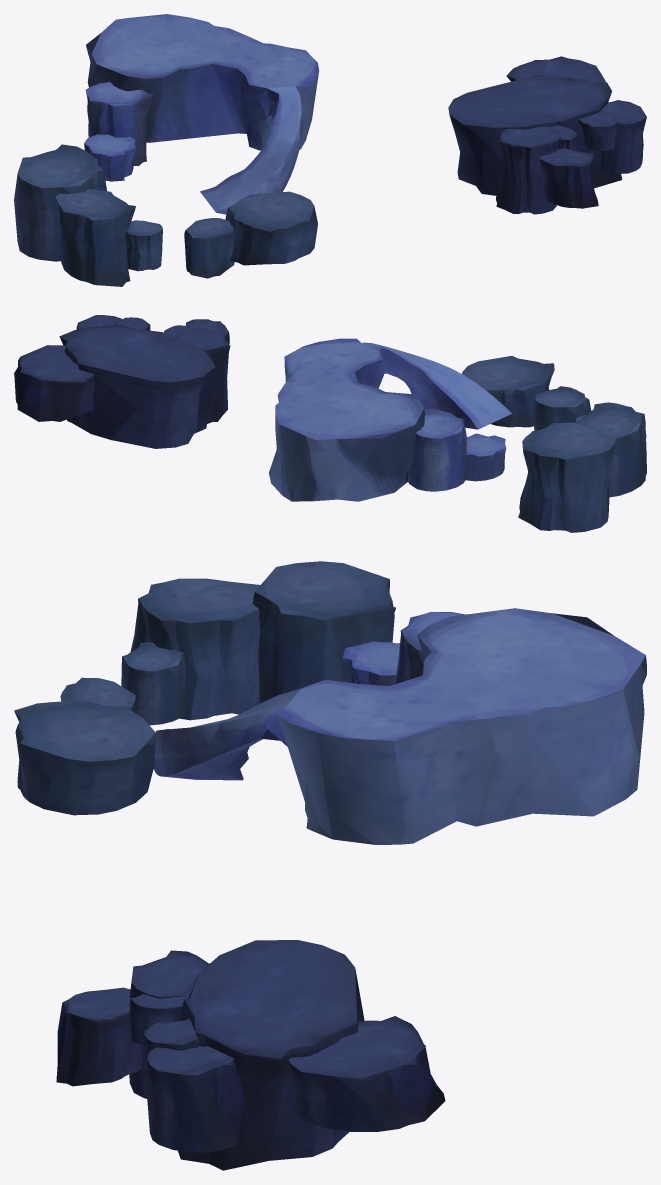
The model's file is Cliff.fbx.
3 renders of one model, top to bottom at view 1: azimuth 30°, elevation 25°; view 2: azimuth 150°, elevation 25°; view 3: azimuth 270°, elevation 25°, orthographic. The views are drawn at different scales.
Visible parts, largest first — view 1: Cliff; view 2: Cliff; view 3: Cliff.
Boxes of the visible parts, box(x1,y1,x2,y2) form: Cliff: box(14, 14, 646, 286); Cliff: box(14, 315, 646, 532); Cliff: box(14, 561, 646, 1170).
Size of the model in its own units: 25376 by 14831 by 5920.
Materials: 1 (1 with a texture image).
